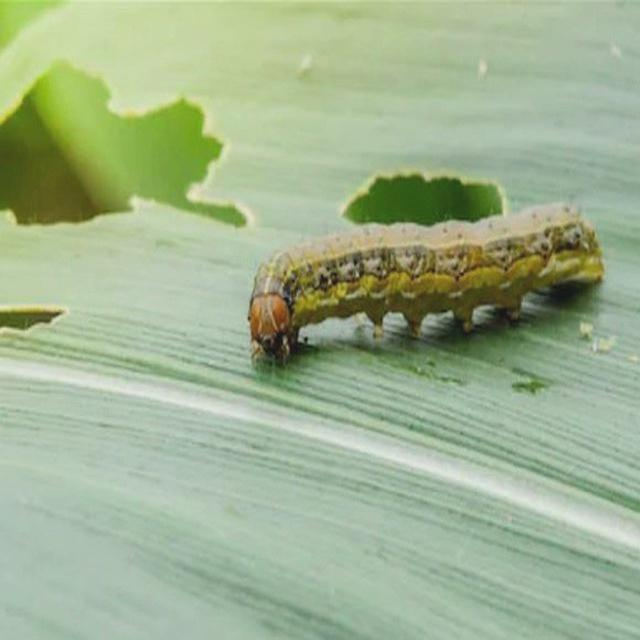gusano_cogollero: (246, 196, 608, 370)
